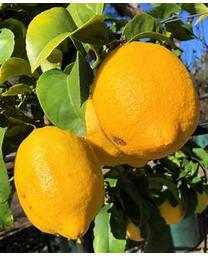lemon: (96, 43, 202, 161), (15, 126, 105, 238)
